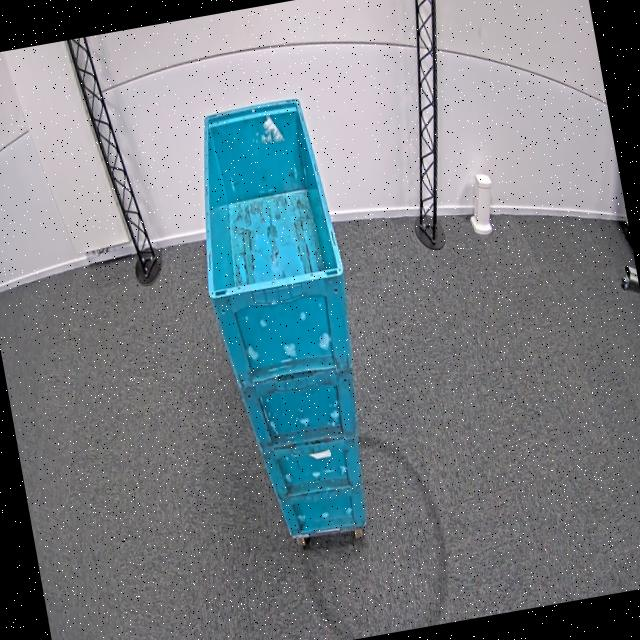RollB4: (174, 89, 347, 305)
